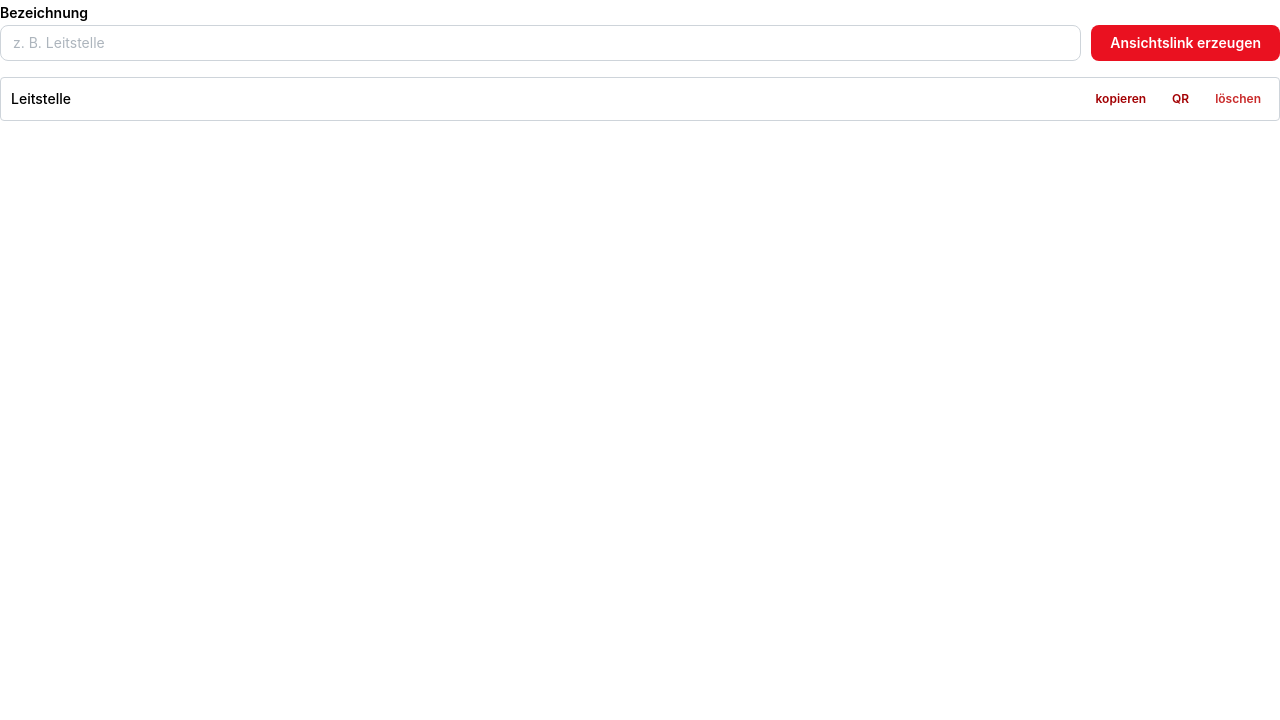
Test: ViewLinkPanel › deleting a link › asks in a dialog, not inline in the row, and deletes only once confirmed
The image size is (1280, 720).
Step 1. Click the button with aria-label "Leitstelle löschen" → {"x": 1238, "y": 99}, box left=1207, top=88, right=1269, bottom=110
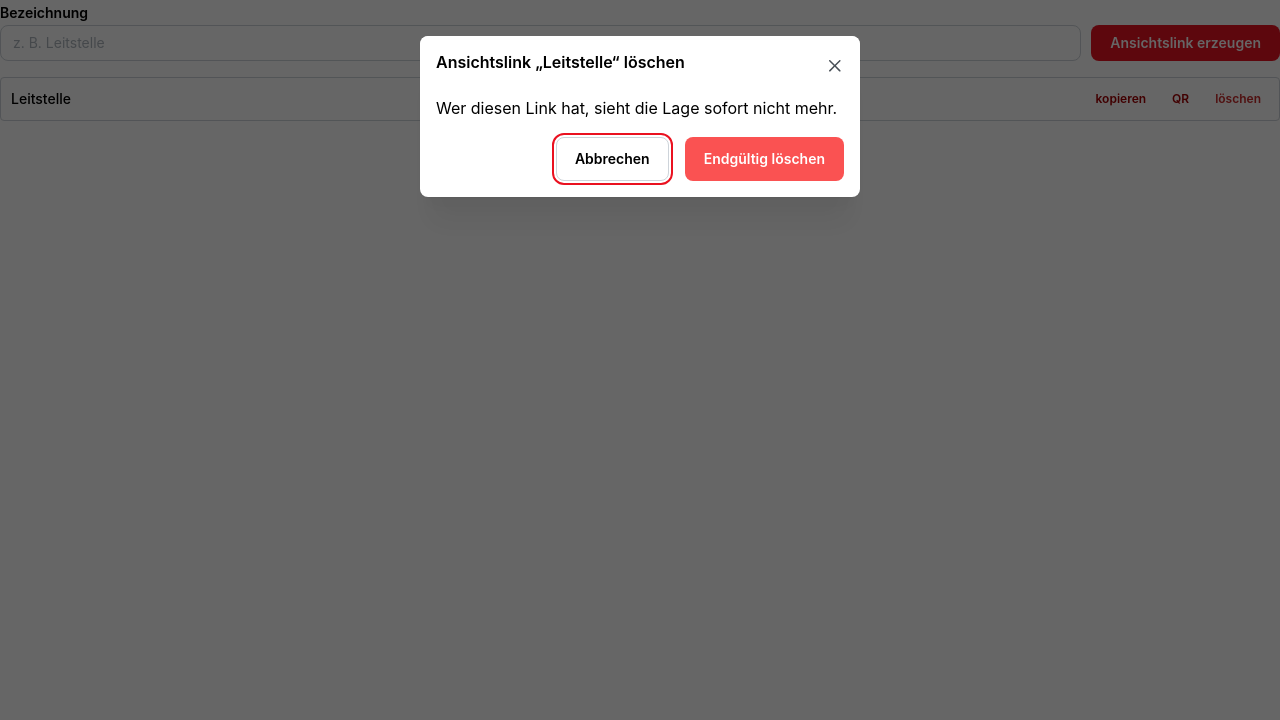
Check: the dialog "Ansichtslink „Leitstelle“ löschen" shows "Wer diesen Link hat, sieht die Lage sofort nicht mehr.", box left=436, top=98, right=837, bottom=118
Step 2. Click the button "Endgültig löschen" → {"x": 764, "y": 159}, box left=685, top=137, right=844, bottom=181
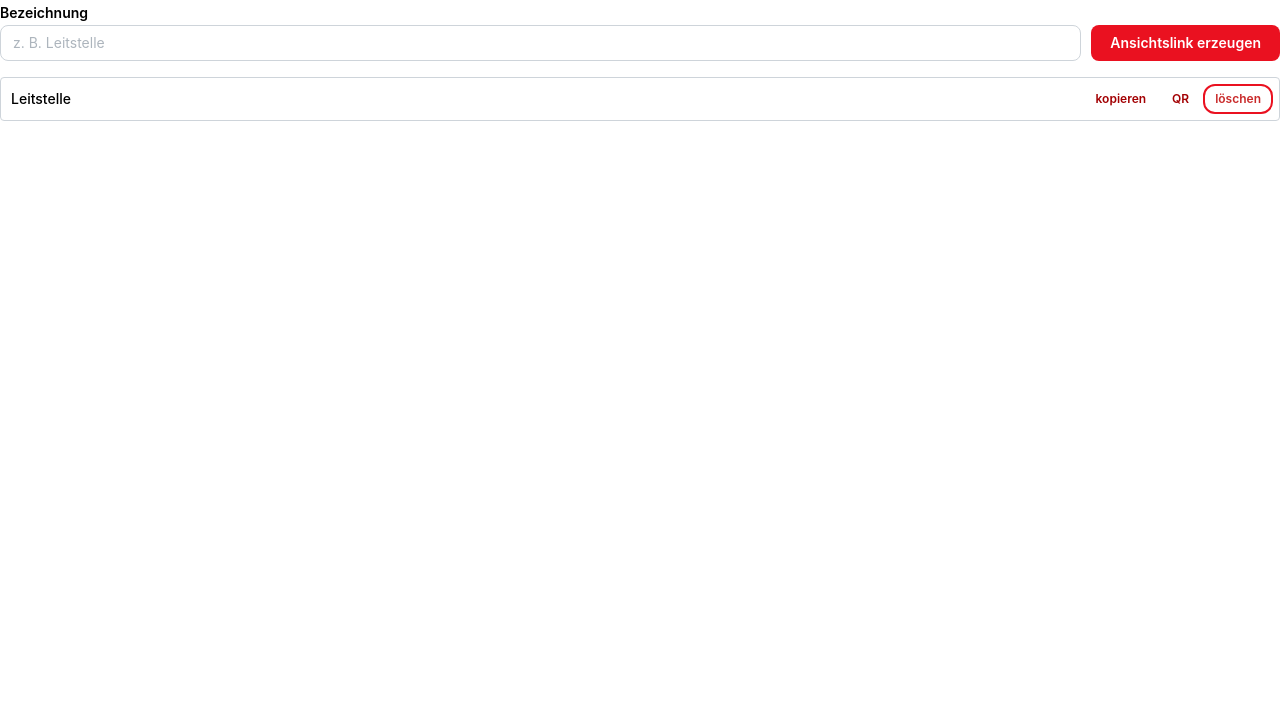
Check: the dialog is gone
